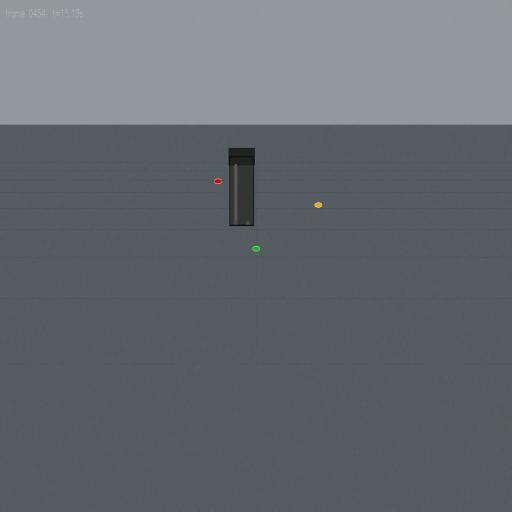bin: (228, 147, 255, 227)
